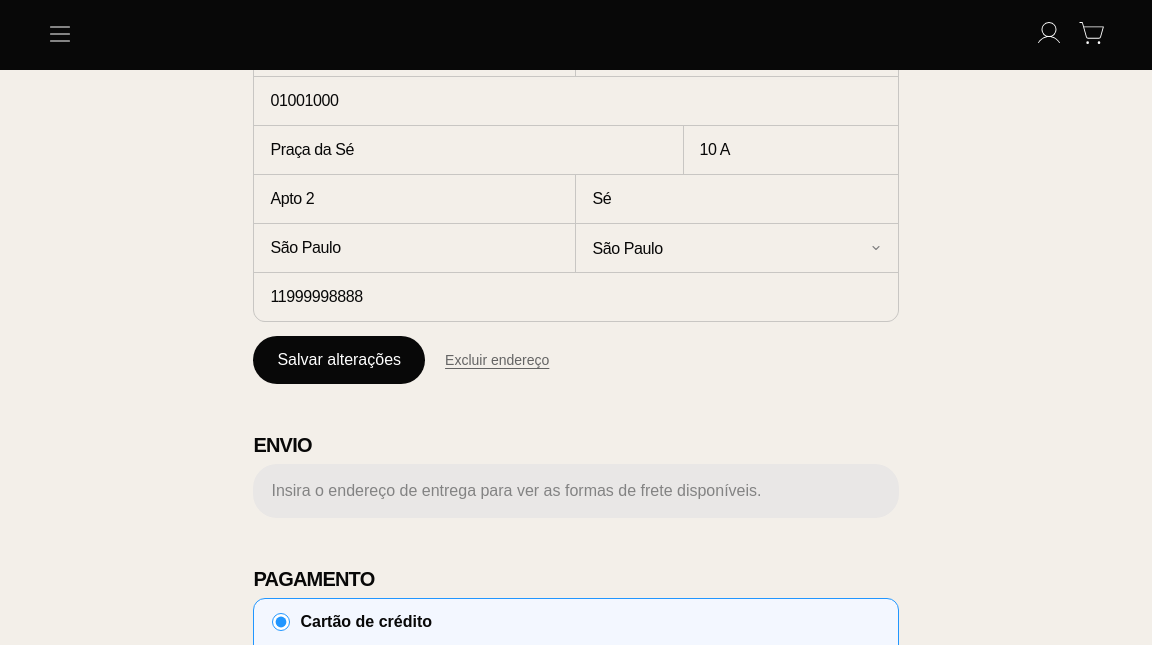
Test: exclui o endereço padrão e usa o padrão escolhido pelo backend
(page scrolled)
What coordinates should you click on to do the following:
click the button "Excluir endereço"
I would click on:
 (497, 360)
Its box is [445, 346, 549, 374].
(page scrolled)
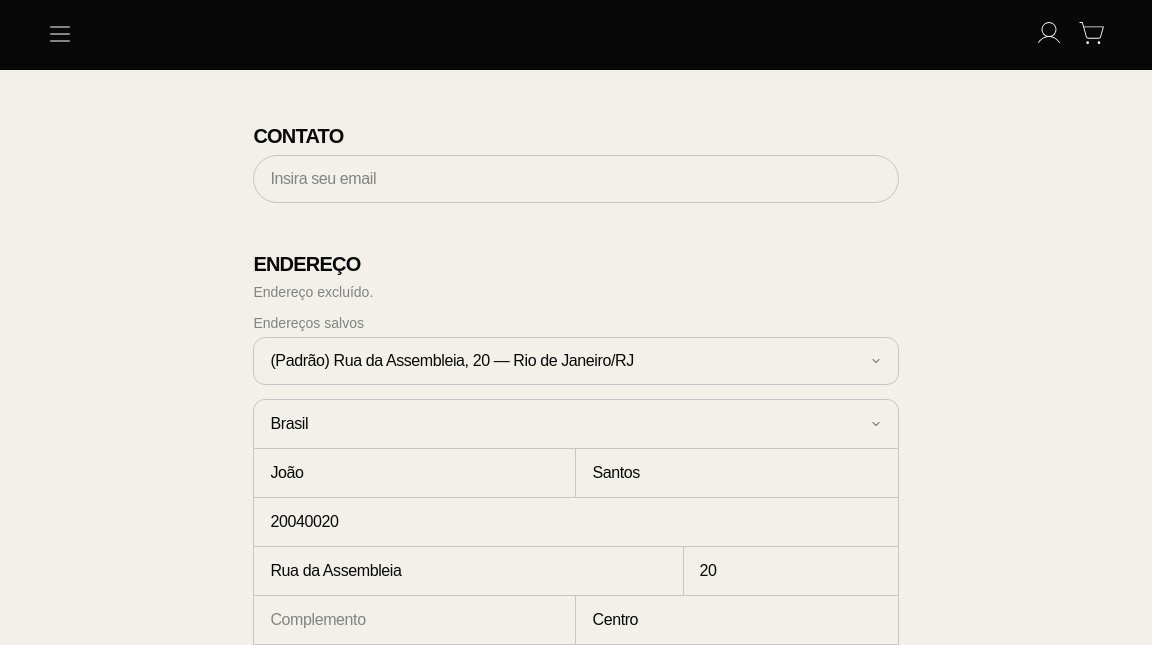
expect the dropdown with id "endereco-salvo-checkout" shows "(Padrão) Rua da Assembleia, 20 — Rio de Janeiro/RJ": met, box [253, 337, 898, 385]
